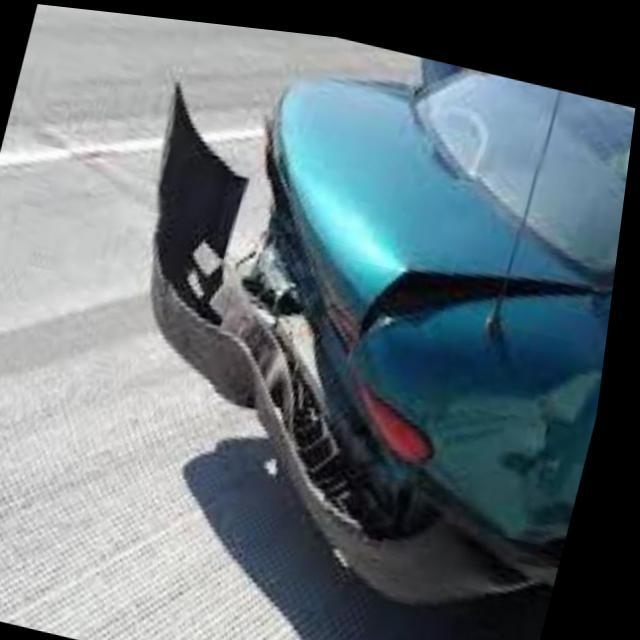dislocated part: (153, 78, 601, 583)
